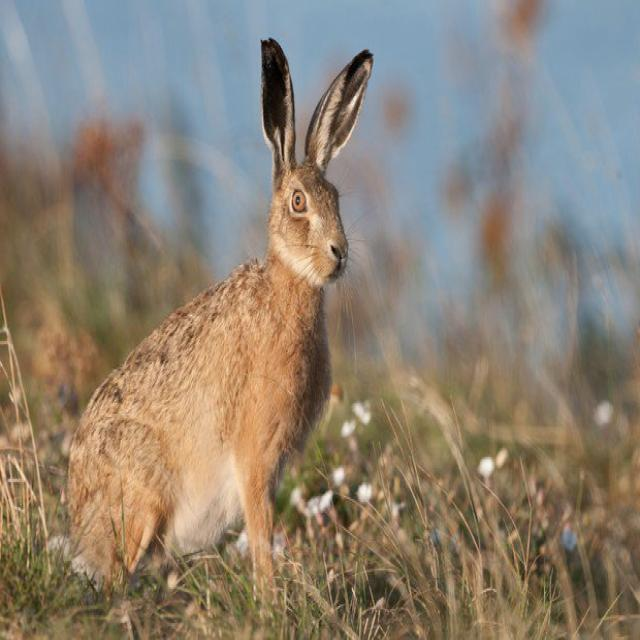hare: (67, 39, 374, 587)
